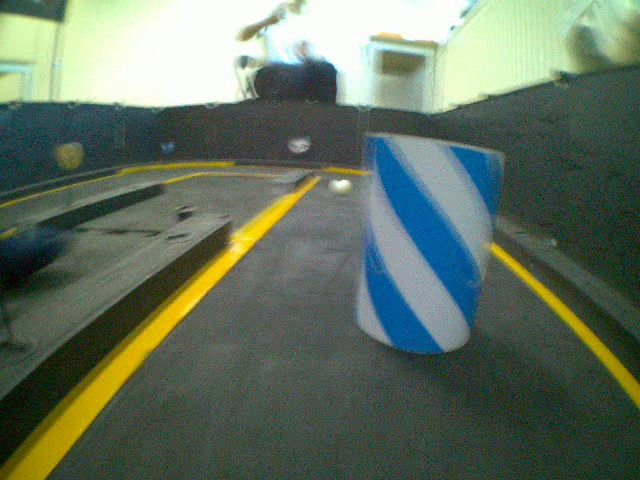ball: (332, 178, 353, 198)
bucket: (357, 127, 505, 357)
